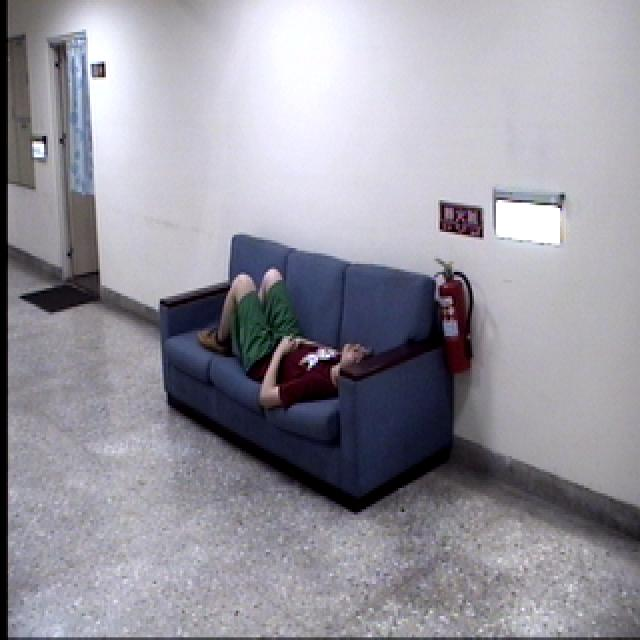lie: (190, 270, 382, 414)
